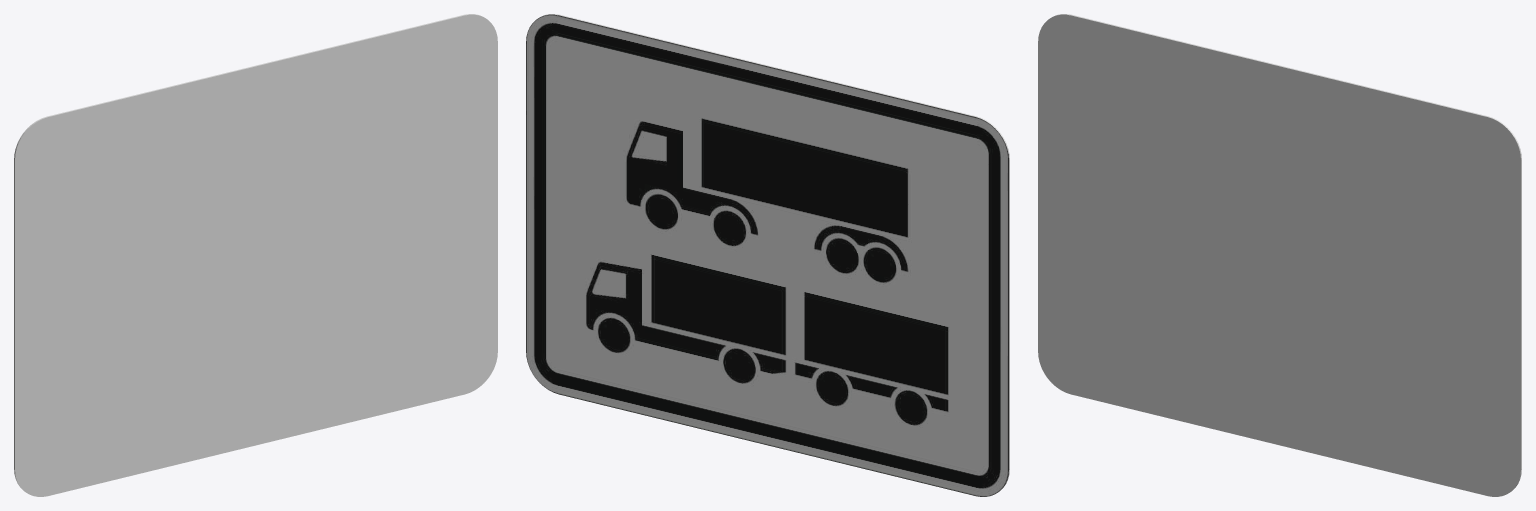
3 views of the same model, side by side, from view 1: azimuth 30°, elevation 25°; view 2: azimuth 150°, elevation 25°; view 3: azimuth 330°, elevation 25° (orthographic).
Visible parts, largest first — view 1: Plane; view 2: Plane; view 3: Plane.
Part boxes in pixels (x1,y1,x2,y2): Plane: (14, 14, 497, 496); Plane: (526, 14, 1009, 496); Plane: (1038, 14, 1521, 496).
Size of the model in its own units: 0.6 by 0.45 by 0.002.
2 materials, 1 textured.
